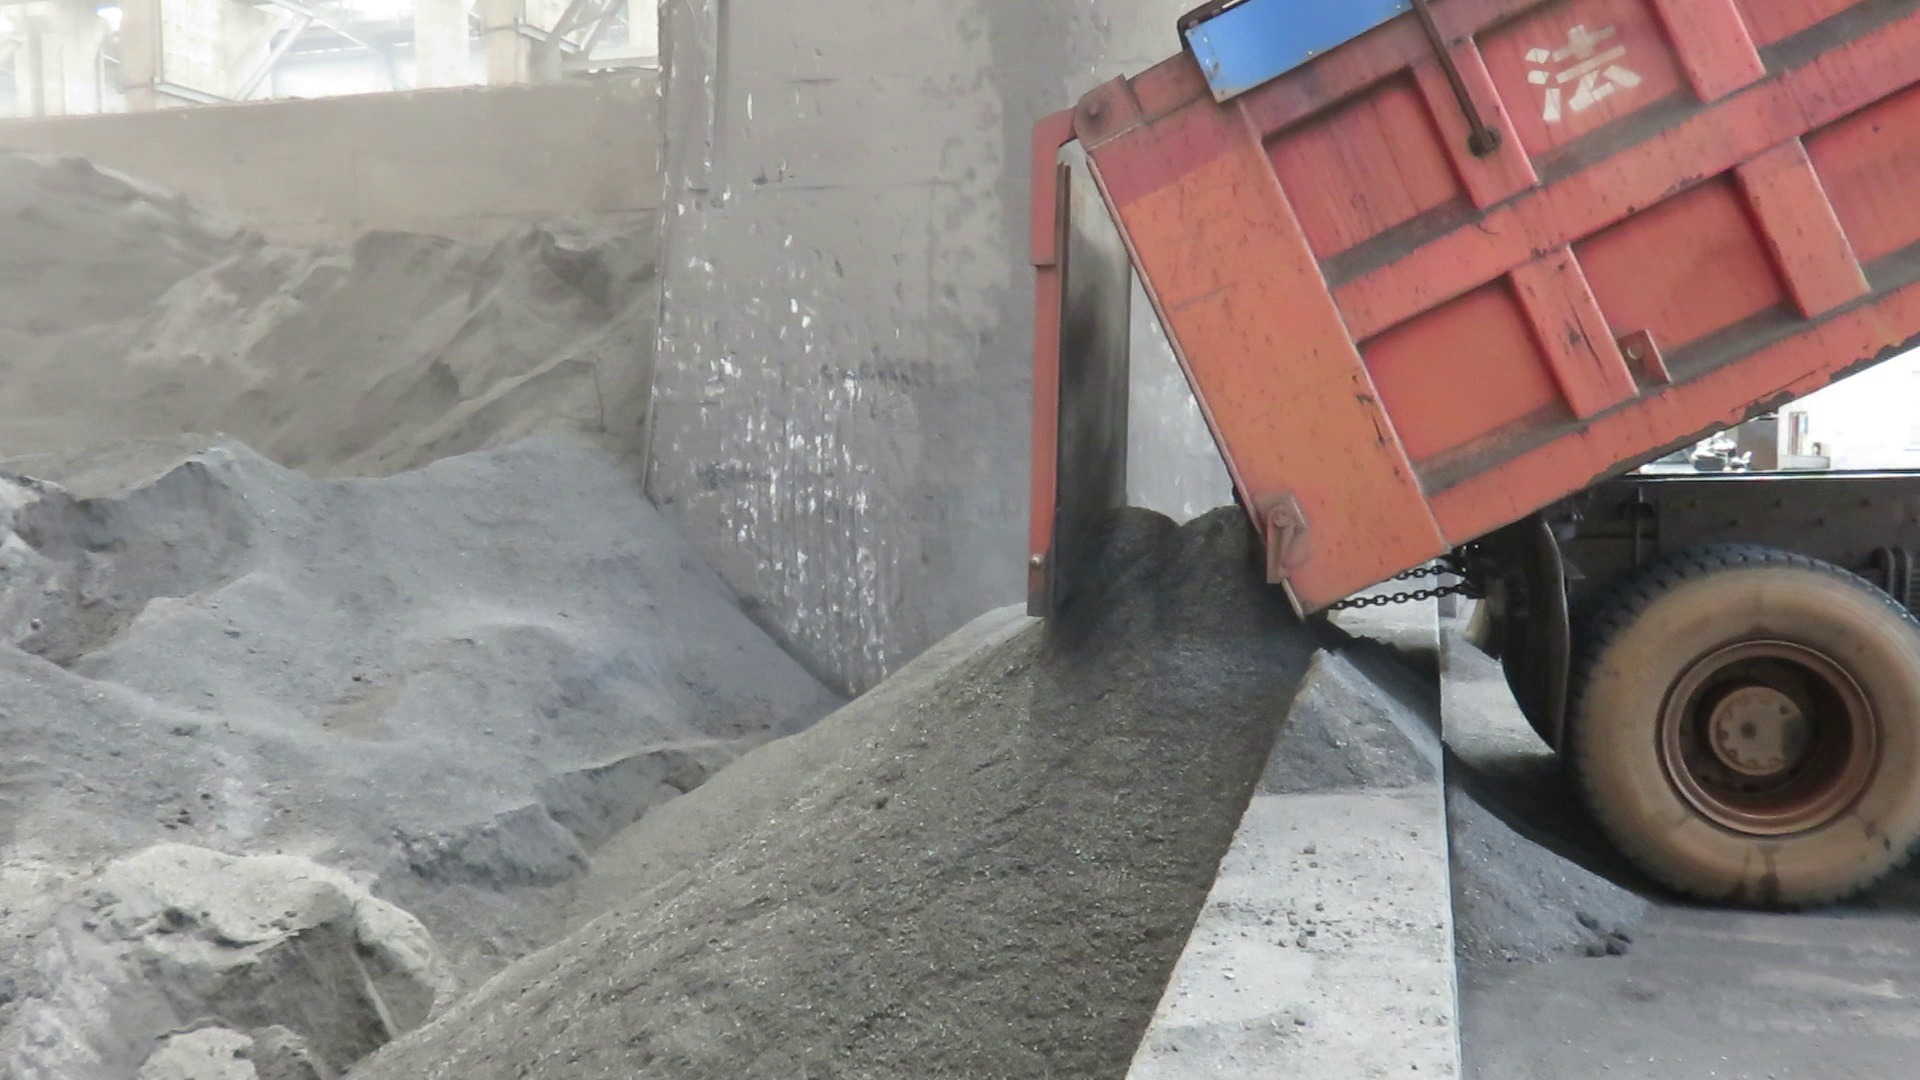truck: (984, 0, 1920, 927)
